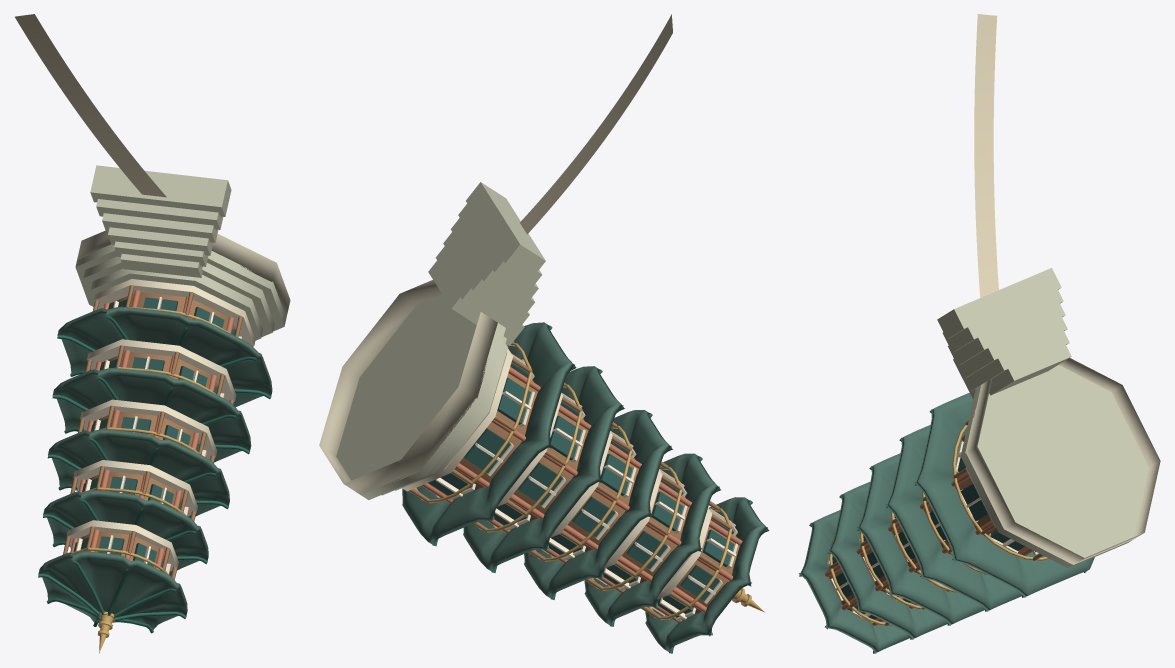
The model's file is pagoda.glb.
3 views of the same model, side by side, from view 1: azimuth 30°, elevation 25°; view 2: azimuth 150°, elevation 25°; view 3: azimuth 270°, elevation 25° (orthographic). The views are drawn at different scales.
Parts seen in each view (by area): view 1: pagoda (×11); view 2: pagoda (×10); view 3: pagoda (×9).
Boxes of the visible parts, left/top/right/bottom form: pagoda (×11): left=15, top=14, right=290, bottom=653; pagoda (×10): left=319, top=14, right=766, bottom=652; pagoda (×9): left=800, top=14, right=1160, bottom=652.
Size of the model in its own units: 0.3873 by 0.7168 by 0.3873.
